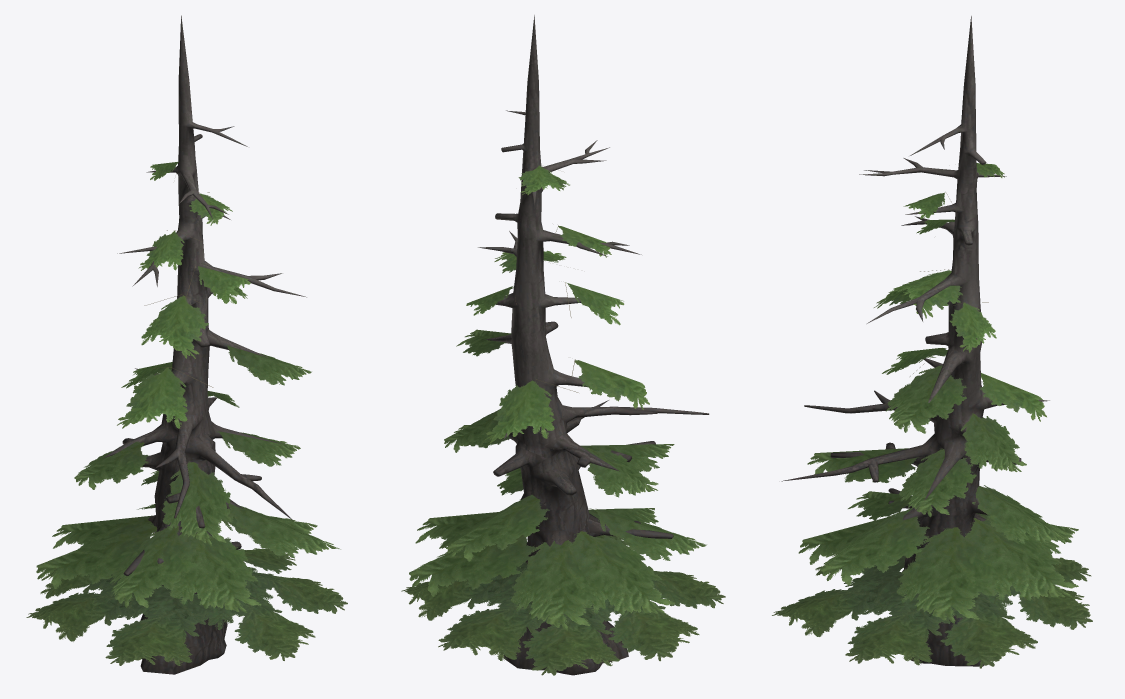
Rendered from tree_pine_04.fbx.
3 renders of one model, left to right at view 1: azimuth 30°, elevation 25°; view 2: azimuth 150°, elevation 25°; view 3: azimuth 270°, elevation 25°, orthographic. The views are drawn at different scales.
Visible parts, largest first — view 1: tree_pine_04; view 2: tree_pine_04; view 3: tree_pine_04.
Part boxes in pixels (<box>): tree_pine_04: <box>26,15,347,674</box>; tree_pine_04: <box>401,15,725,675</box>; tree_pine_04: <box>772,16,1092,668</box>.
Bounding box in the file's own units: 19326 × 38405 × 18938.
